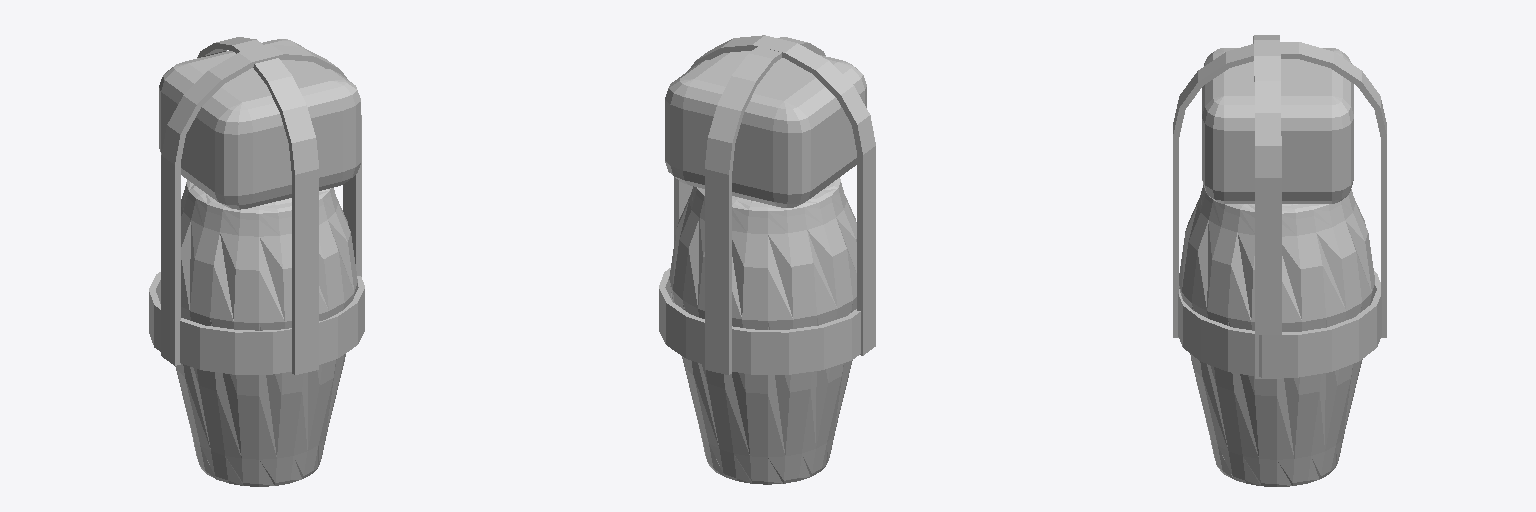
The model's file is Storage jug and Box.obj.
3 renders of one model, left to right at view 1: azimuth 30°, elevation 25°; view 2: azimuth 150°, elevation 25°; view 3: azimuth 270°, elevation 25°, orthographic.
Visible parts, largest first — view 1: OilTank002, Tube002, ChamferBox001; view 2: OilTank002, Tube002, ChamferBox001; view 3: OilTank002, Tube002, ChamferBox001.
Boxes of the visible parts, x1=… form: OilTank002: x1=175, y1=180, x2=357, y2=486; Tube002: x1=149, y1=37, x2=364, y2=374; ChamferBox001: x1=159, y1=39, x2=360, y2=209; OilTank002: x1=669, y1=178, x2=856, y2=484; Tube002: x1=659, y1=35, x2=875, y2=374; ChamferBox001: x1=665, y1=51, x2=866, y2=207; OilTank002: x1=1179, y1=185, x2=1374, y2=486; Tube002: x1=1173, y1=35, x2=1386, y2=378; ChamferBox001: x1=1202, y1=48, x2=1353, y2=203.
Bounding box in the file's own units: 50.31 × 105 × 49.22.